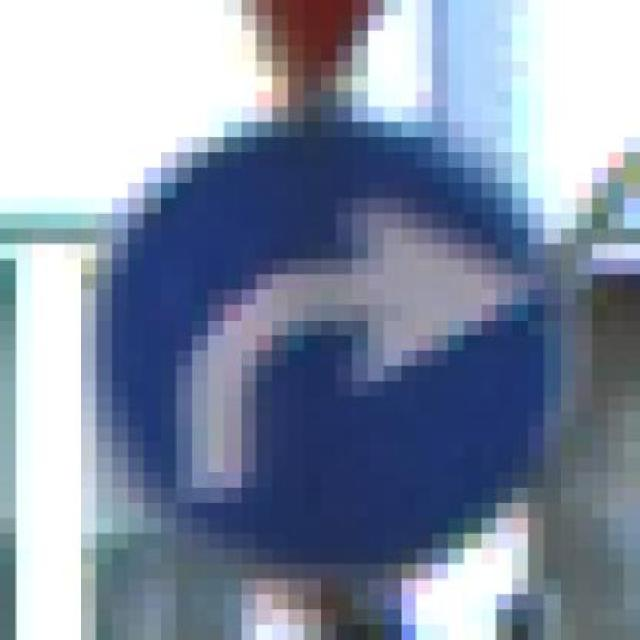Turn right ahead: (48, 91, 592, 594)
